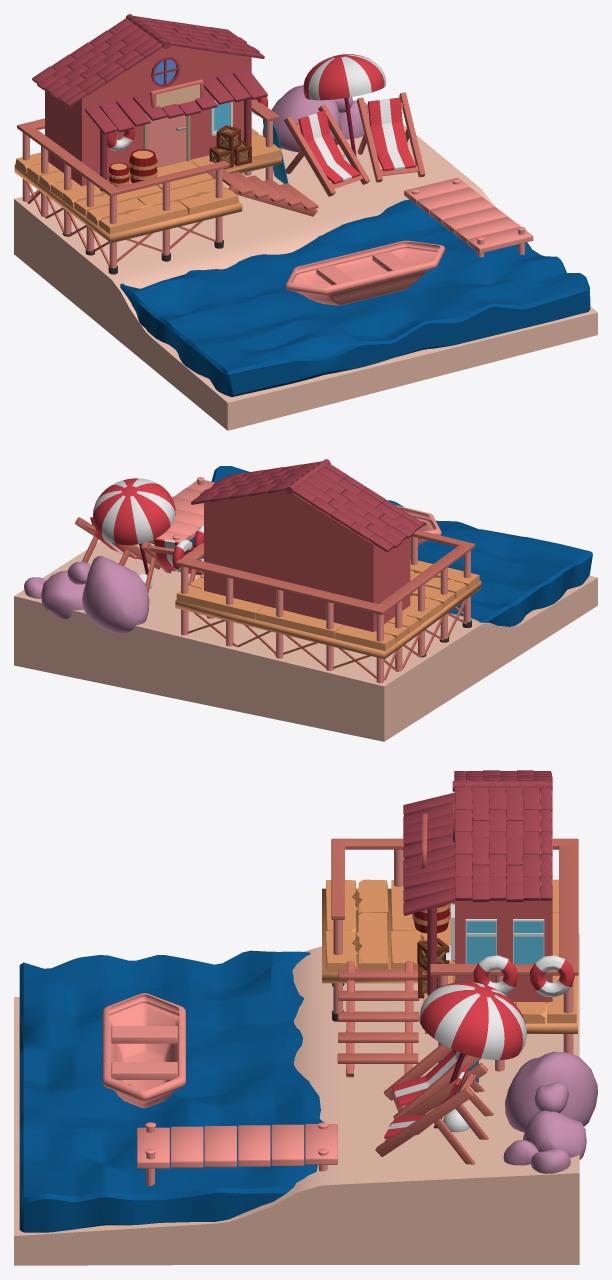
The model's file is Playa4.fbx.
3 views of the same model, one above another, from view 1: azimuth 30°, elevation 25°; view 2: azimuth 150°, elevation 25°; view 3: azimuth 270°, elevation 25° (orthographic). The views are drawn at different scales.
Visible parts, largest first — view 1: Plane.003, Cube, Plane.007, Plane.015, Cube.008, Plane.002, Cylinder, Plane.014, Plane, Plane.001, Cylinder.004, Cylinder.006 (+13 smaller); view 2: Cube, Plane.007, Plane.003, Plane.015, Cube.008, Cylinder.004, Cylinder.006, Icosphere.003, Plane.004, Cylinder.005, Cylinder.010, Cylinder (+6 smaller); view 3: Cube, Plane.003, Plane.015, Cube.008, Cylinder, Cylinder.004, Plane.002, Plane.014, Cylinder.006, Plane.007, Icosphere.003, Plane.013 (+17 smaller).
Part boxes in pixels (x1,y1,x2,y2): Plane.003: (120,199,590,396); Cube: (14,124,597,430); Plane.007: (45,45,251,186); Plane.015: (32,14,264,191); Cube.008: (15,128,281,234); Plane.002: (285,240,445,305); Cylinder: (404,177,533,257); Plane.014: (85,69,267,134); Plane: (356,92,425,182); Plane.001: (284,104,369,196); Cylinder.004: (303,54,385,156); Cylinder.006: (17,99,278,196); Cube: (14,541,597,741); Plane.007: (204,491,410,631); Plane.003: (149,466,592,626); Plane.015: (191,459,423,552); Cube.008: (176,559,479,651); Cylinder.004: (93,478,175,574); Cylinder.006: (176,530,475,614); Icosphere.003: (82,556,149,633); Plane.004: (175,580,481,659); Cylinder.005: (181,536,470,641); Cylinder.010: (181,596,471,683); Cylinder: (148,477,214,543); Cube: (14,934,579,1265); Plane.003: (19,950,323,1232); Plane.015: (427,770,552,995); Cube.008: (326,879,576,1023); Cylinder: (137,1122,337,1186); Cylinder.004: (419,981,526,1128); Plane.002: (102,993,185,1108); Plane.014: (403,792,454,915); Cylinder.006: (331,838,578,975); Plane.007: (452,776,552,1001); Icosphere.003: (505,1051,597,1132); Plane.013: (337,969,419,1063).
Size of the model in its own units: 1403 by 879 by 1446.
